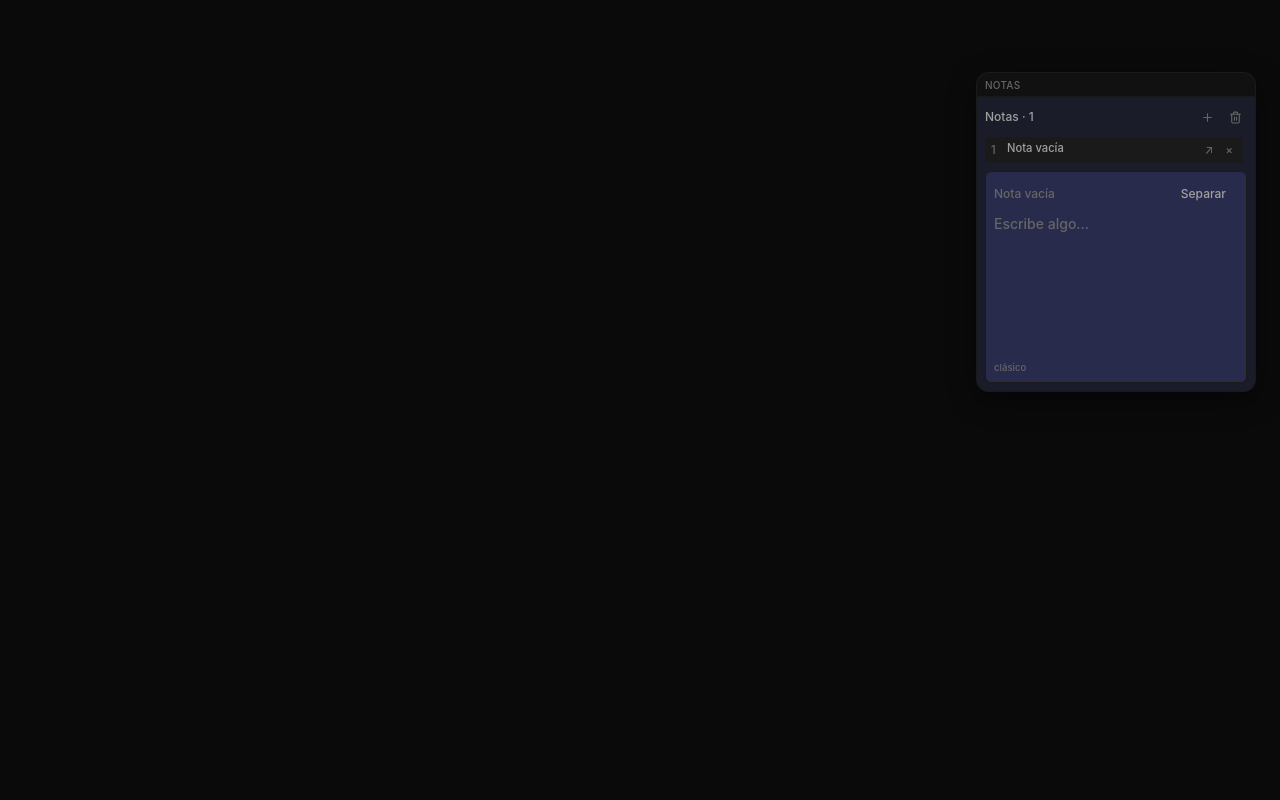
Test: StickyNotesLayer › clear-all asks for confirmation before deleting
Click the button named "Eliminar todas" at [1235, 117], box left=1223, top=105, right=1247, bottom=129
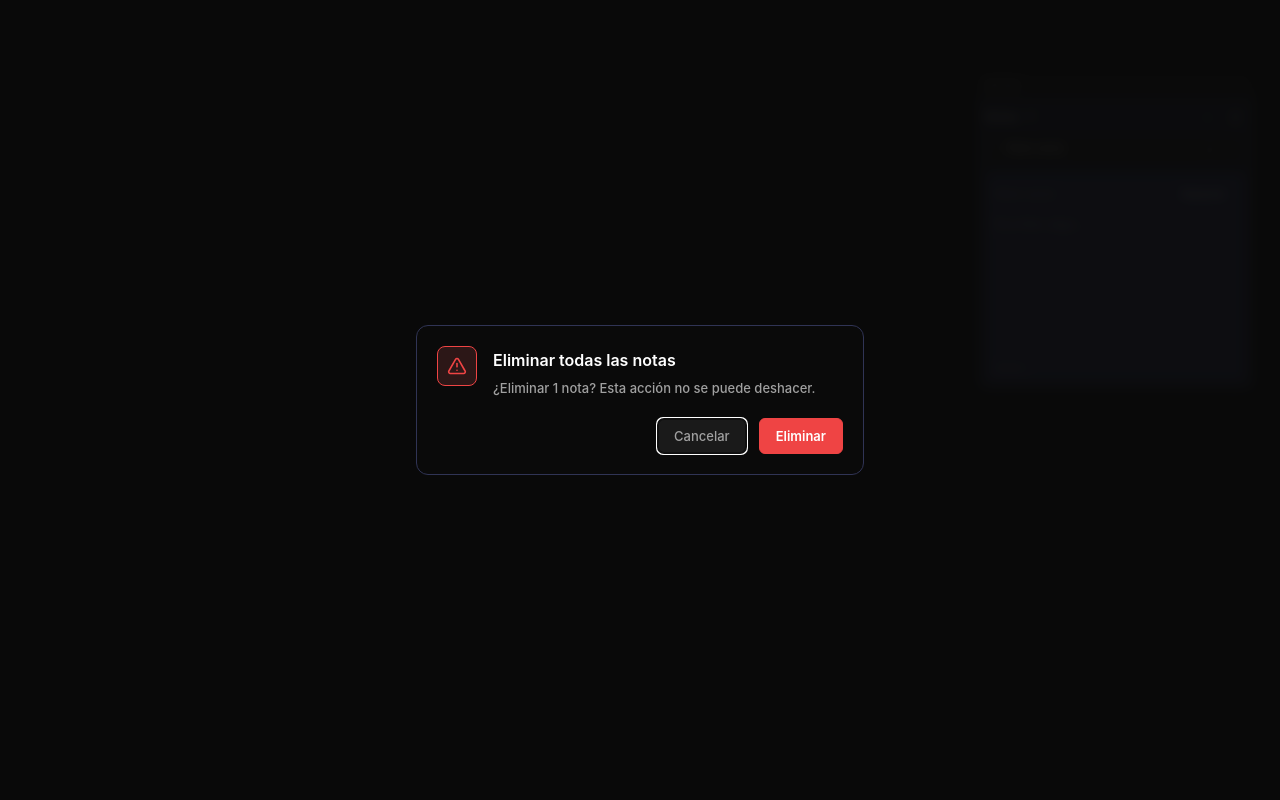
Result: the heading "Eliminar todas las notas" is shown at left=493, top=350, right=676, bottom=370
